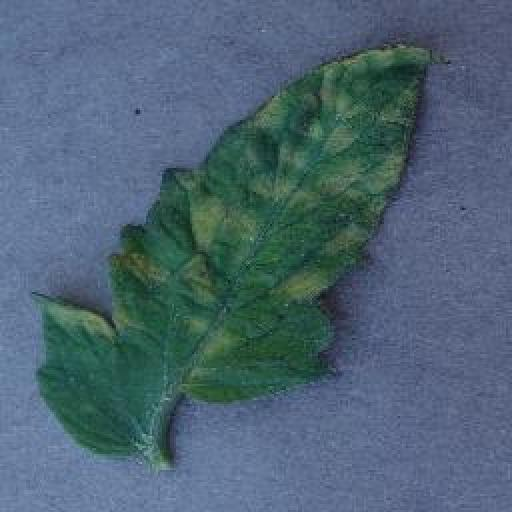Leaf Mold: (34, 42, 432, 462)
